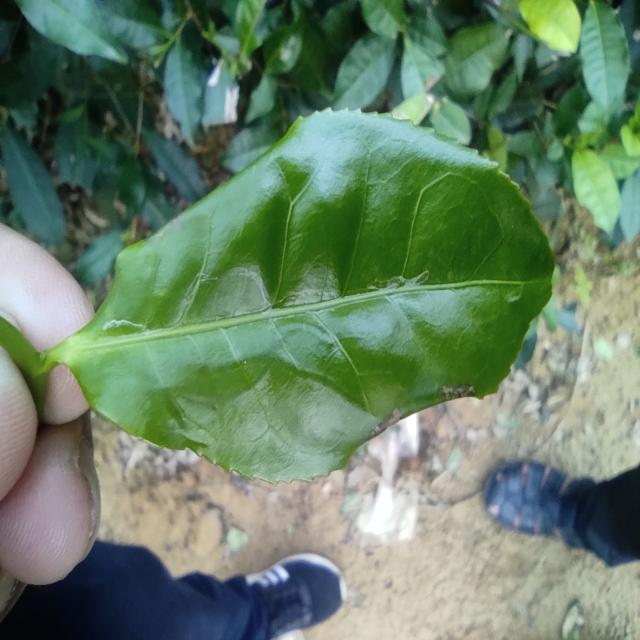Category C(4-7 days): (19, 77, 573, 514)
